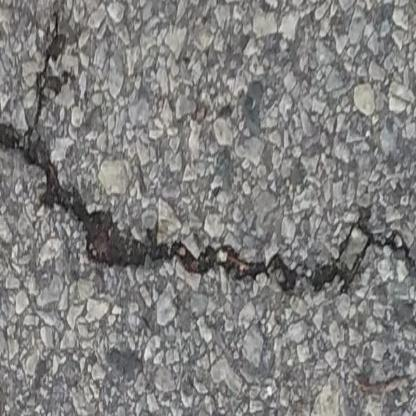Cracks: (0, 0, 416, 297)
